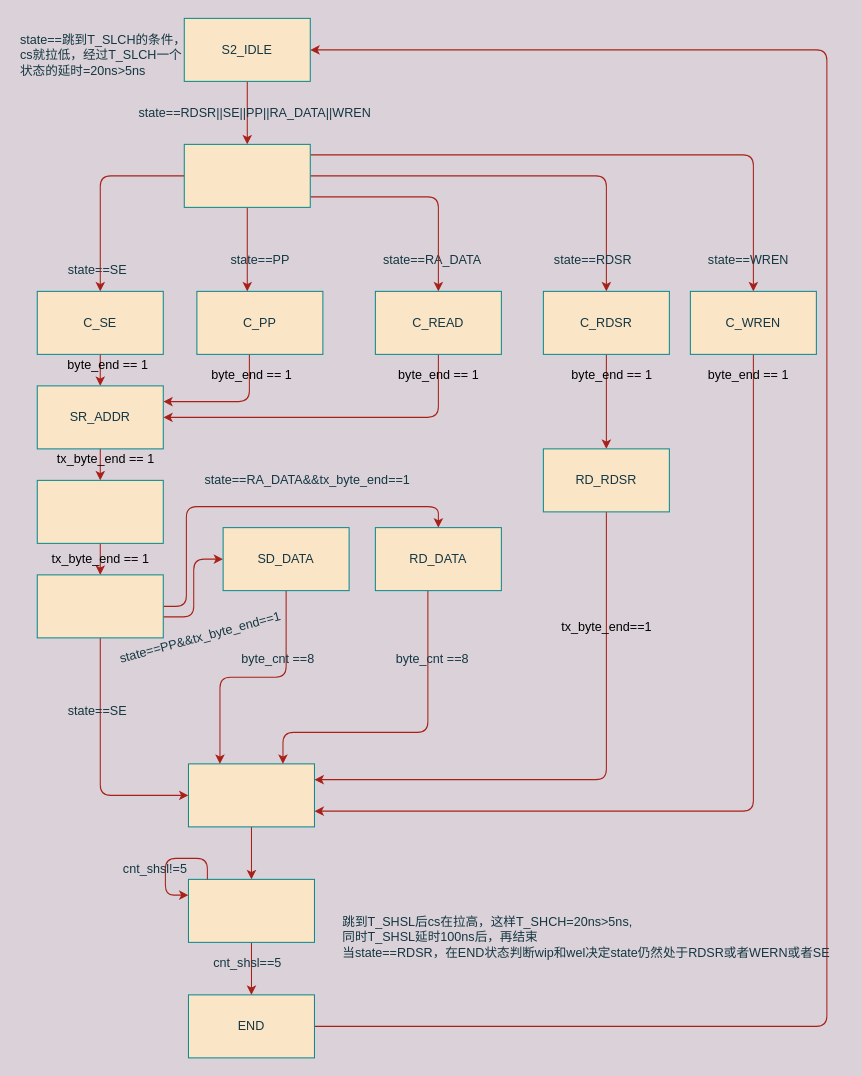
Image size: 862x1076. Some labels were removed from this diagram. Here are the shapes that lost their labels. From the top down, the centre of each, then its label:
At (246,175): "T_SLCH".
At (99,511): "PE_ADDR".
At (99,606): "BE_ADDR".
At (250,795): "T_SHCH".
At (250,910): "T_SHSL".
